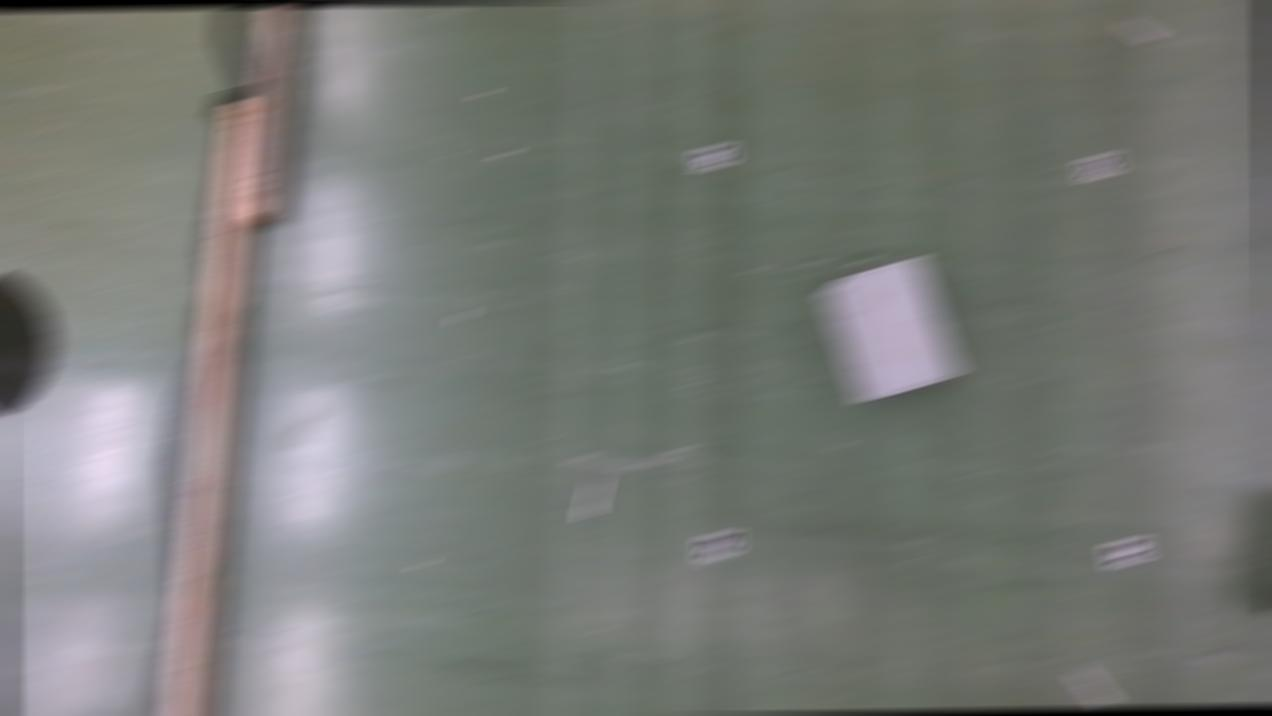probes: (1073, 668, 1115, 708), (579, 478, 606, 520), (1116, 18, 1159, 44)
rako: (820, 260, 962, 404)
